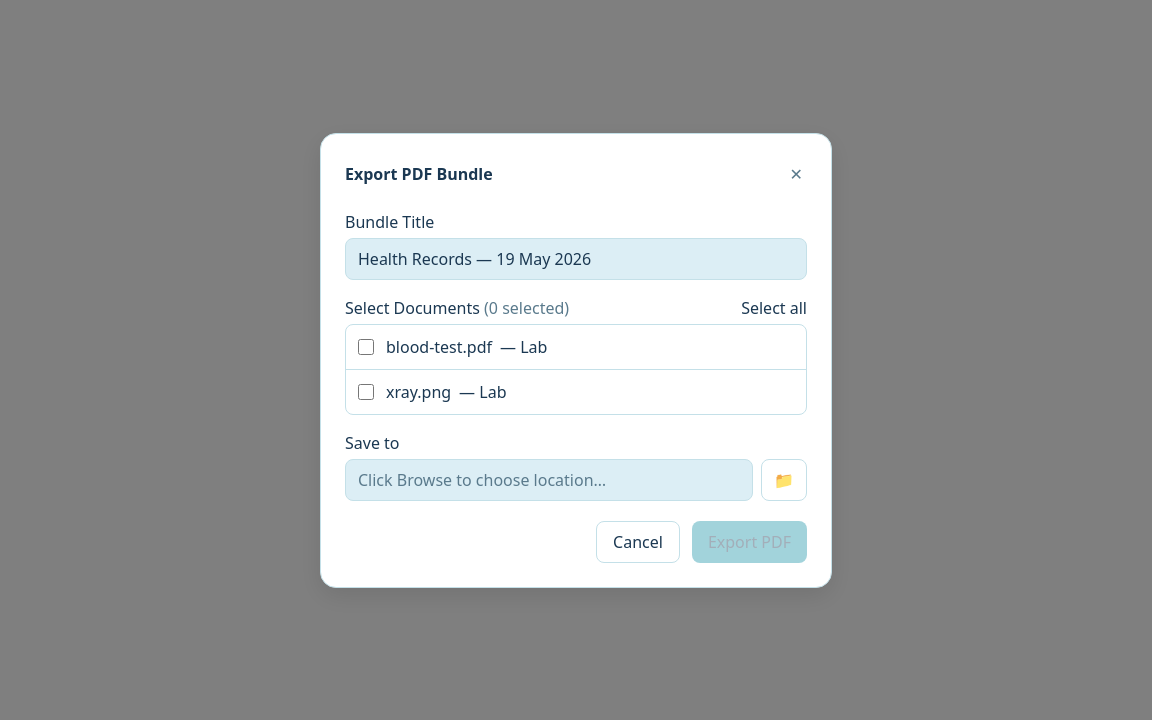
Test: ExportDialog › Select all toggles all checkboxes
Step 1. Click the button "Select all" → (774, 308), box [741,296,807,320]
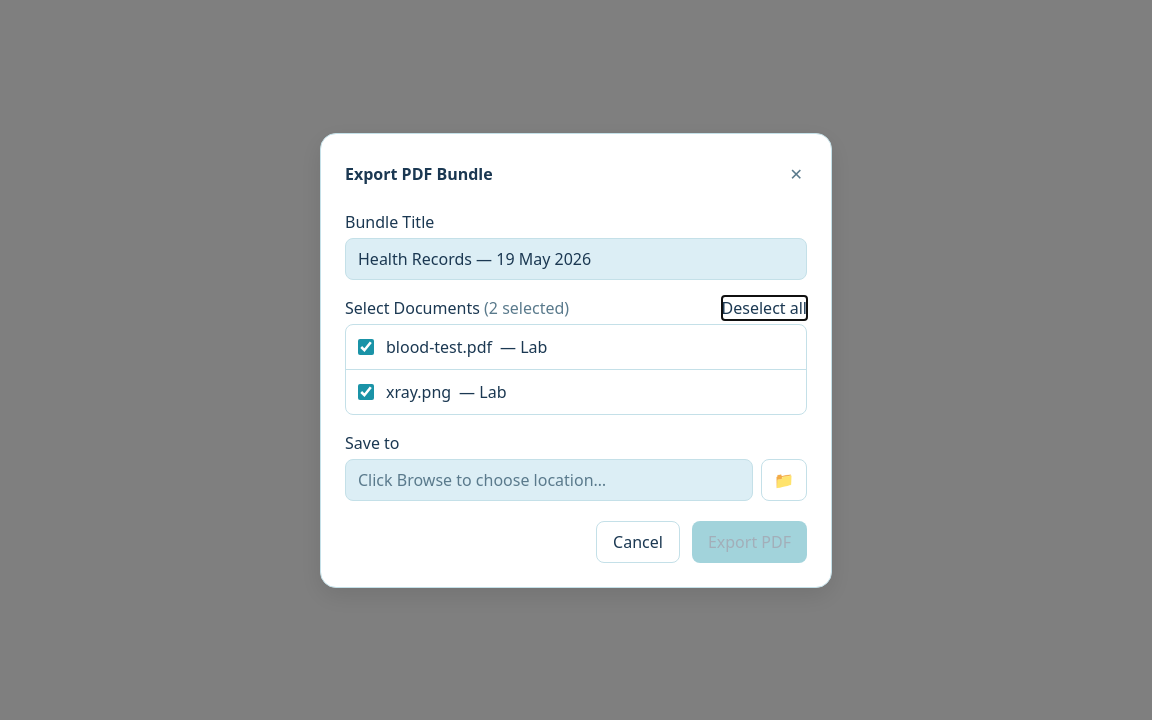
Now the text "(2 selected)" is shown, box [484,296,569,318]
Step 2. Click the button "Deselect all" → (764, 308), box [722,296,807,320]
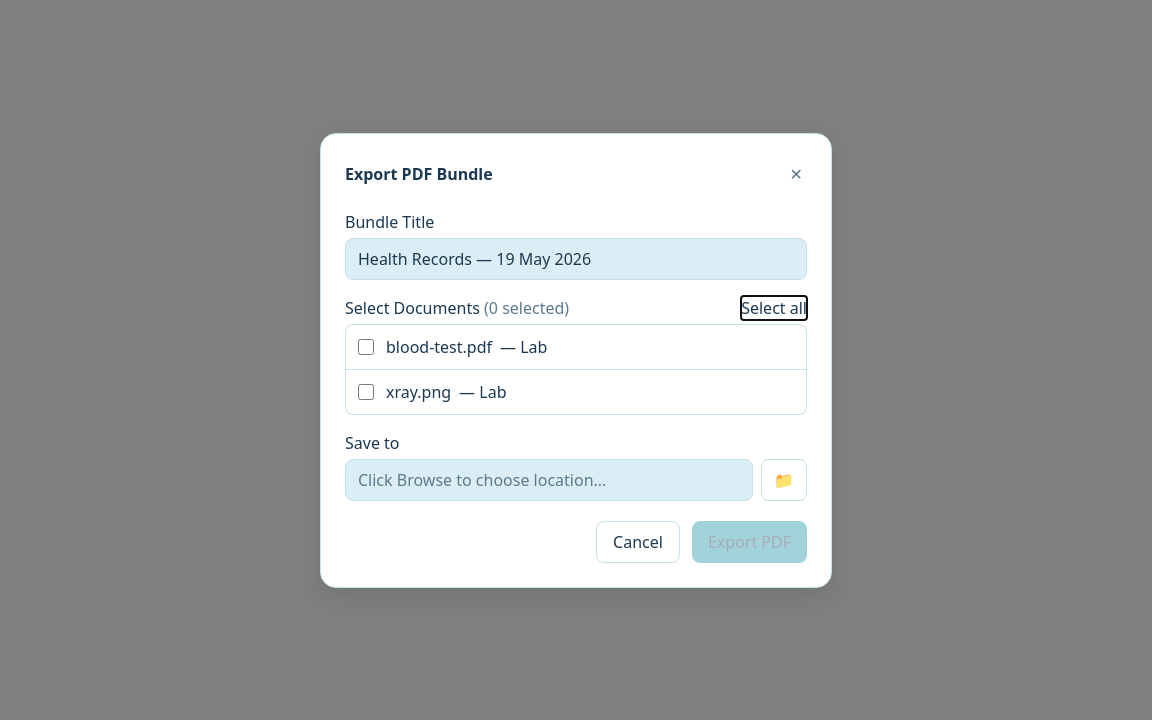
Now the text "(0 selected)" is shown, box [484,296,569,318]
